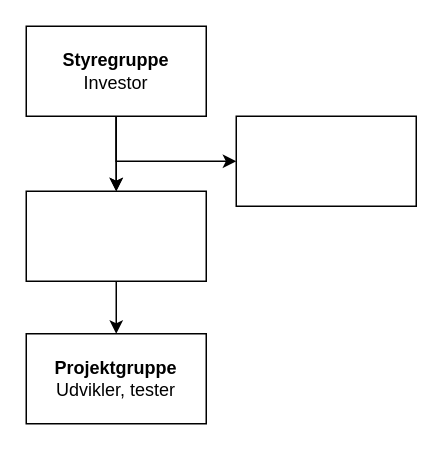
Image size: 443x450. Some labels were removed from this diagram. Here are the shapes that lost their labels. From the top down, the centre of each, then its label:
At pixel 325 160: "Referencegruppe Testgruppe, brugere".
At pixel 115 235: "Projektleder Christopher Josefine Niklas".
